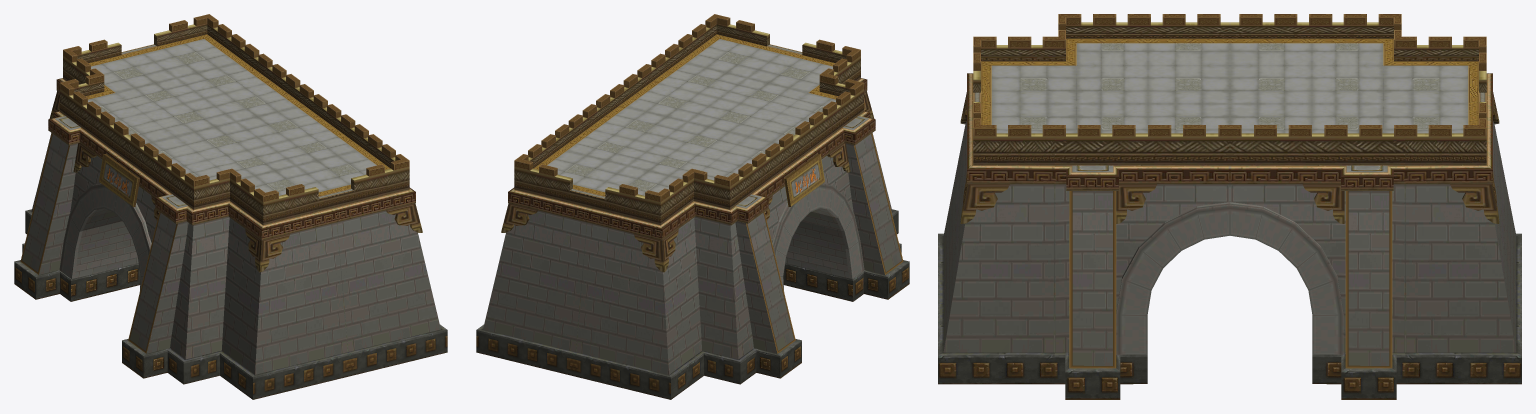
File: Yland1_jz_04 Yland1.FBX
The picture shows the model from 3 angles, left to right: view 1: azimuth 30°, elevation 25°; view 2: azimuth 150°, elevation 25°; view 3: azimuth 270°, elevation 25°; orthographic projection. The views are drawn at different scales.
Parts seen in each view (by area): view 1: Yland1_jz_04 Yland1; view 2: Yland1_jz_04 Yland1; view 3: Yland1_jz_04 Yland1.
Boxes of the visible parts, x1=… form: Yland1_jz_04 Yland1: x1=14, y1=14, x2=447, y2=399; Yland1_jz_04 Yland1: x1=476, y1=14, x2=909, y2=399; Yland1_jz_04 Yland1: x1=938, y1=14, x2=1521, y2=399.
Bounding box in the file's own units: 17.13 × 10.98 × 24.13.
